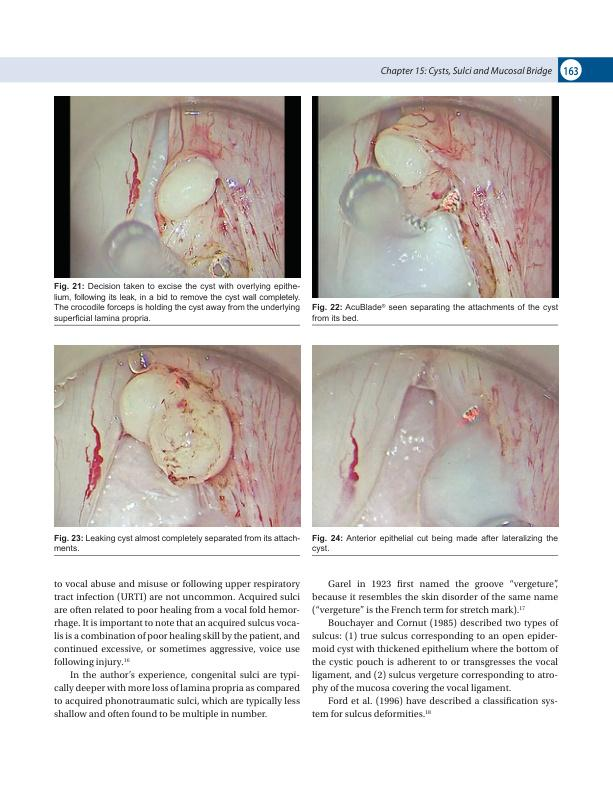caption: (53, 281, 304, 324), (310, 532, 559, 554), (311, 302, 560, 322), (53, 533, 301, 553)
header: (379, 65, 553, 77)
image: (312, 95, 559, 299), (53, 95, 301, 278), (311, 345, 559, 528), (53, 345, 301, 527)
text: (52, 578, 301, 720), (310, 578, 560, 719)
